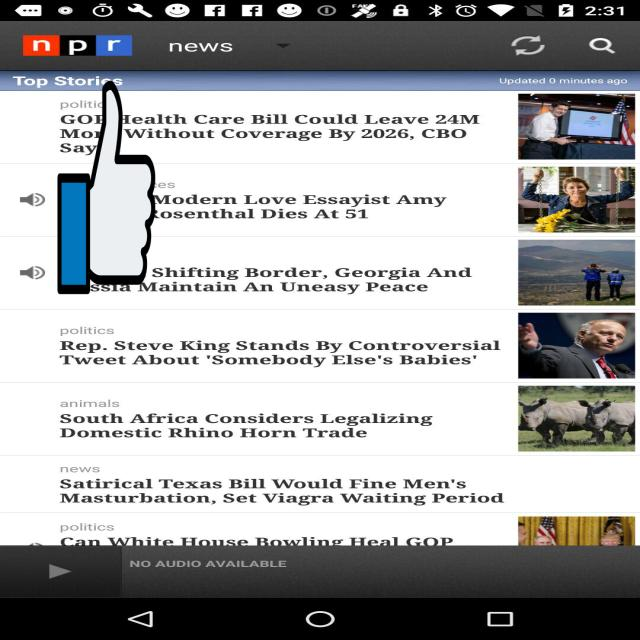privacy zuckering: (58, 76, 156, 299)
